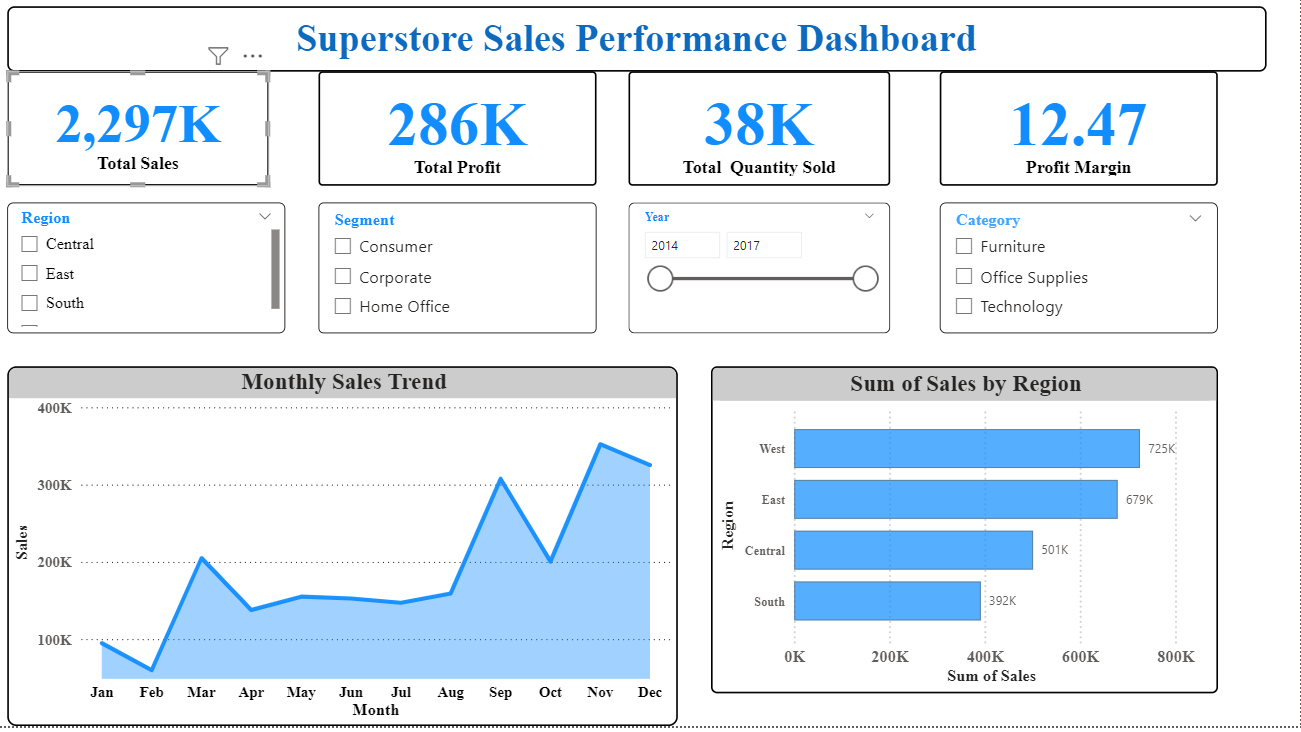

Layout of this report page (visuals, bound fields, positions):
{"tool":"powerbi","page":{"name":"Overview","canvas":[1280,720],"ordinal":0},"visuals":[{"type":"card","fields":{"Values":["CleanedSuperstore.Total Sales"]},"box":[16,80,256,112],"z":0},{"type":"card","fields":{"Values":["CleanedSuperstore.Total Profit"]},"box":[320,80,272,112],"z":1000},{"type":"card","fields":{"Values":["Sum(CleanedSuperstore.Quantity)"]},"box":[624,80,256,112],"z":2000},{"type":"lineChart","title":"Monthly Sales Trend","fields":{"Y":["Sum(CleanedSuperstore.Sales)"],"Category":["CleanedSuperstore.Month Name"]},"box":[16,368,656,352],"z":3000},{"type":"card","fields":{"Values":["CleanedSuperstore.Profit Margin"]},"box":[928,80,272,112],"z":4000},{"type":"barChart","fields":{"Y":["Sum(CleanedSuperstore.Sales)"],"Category":["CleanedSuperstore.Region"]},"box":[704,368,496,320],"z":5000},{"type":"slicer","fields":{"Values":["CleanedSuperstore.Region"]},"box":[16,208,272,128],"z":6000},{"type":"slicer","fields":{"Values":["CleanedSuperstore.Category"]},"box":[928,208,272,128],"z":7000},{"type":"slicer","fields":{"Values":["CleanedSuperstore.Segment"]},"box":[320,208,272,128],"z":8000},{"type":"slicer","fields":{"Values":["CleanedSuperstore.Year"]},"box":[624,208,256,128],"z":9000},{"type":"textbox","box":[16,16,1232,64],"z":10000}]}

Visuals, with their boxes in screenshot pixels (x1, y1, x2, y2), scaled from the page's 1280x720 canvas onto the 1301x732 screenshot:
card - CleanedSuperstore.Total Sales: pyautogui.locateOnScreen(16, 81, 276, 195)
card - CleanedSuperstore.Total Profit: pyautogui.locateOnScreen(325, 81, 602, 195)
card - Sum(CleanedSuperstore.Quantity): pyautogui.locateOnScreen(634, 81, 894, 195)
"Monthly Sales Trend" lineChart: pyautogui.locateOnScreen(16, 374, 683, 731)
card - CleanedSuperstore.Profit Margin: pyautogui.locateOnScreen(943, 81, 1220, 195)
barChart - Sum(CleanedSuperstore.Sales) x CleanedSuperstore.Region: pyautogui.locateOnScreen(716, 374, 1220, 699)
slicer - CleanedSuperstore.Region: pyautogui.locateOnScreen(16, 211, 293, 342)
slicer - CleanedSuperstore.Category: pyautogui.locateOnScreen(943, 211, 1220, 342)
slicer - CleanedSuperstore.Segment: pyautogui.locateOnScreen(325, 211, 602, 342)
slicer - CleanedSuperstore.Year: pyautogui.locateOnScreen(634, 211, 894, 342)
textbox: pyautogui.locateOnScreen(16, 16, 1268, 81)
